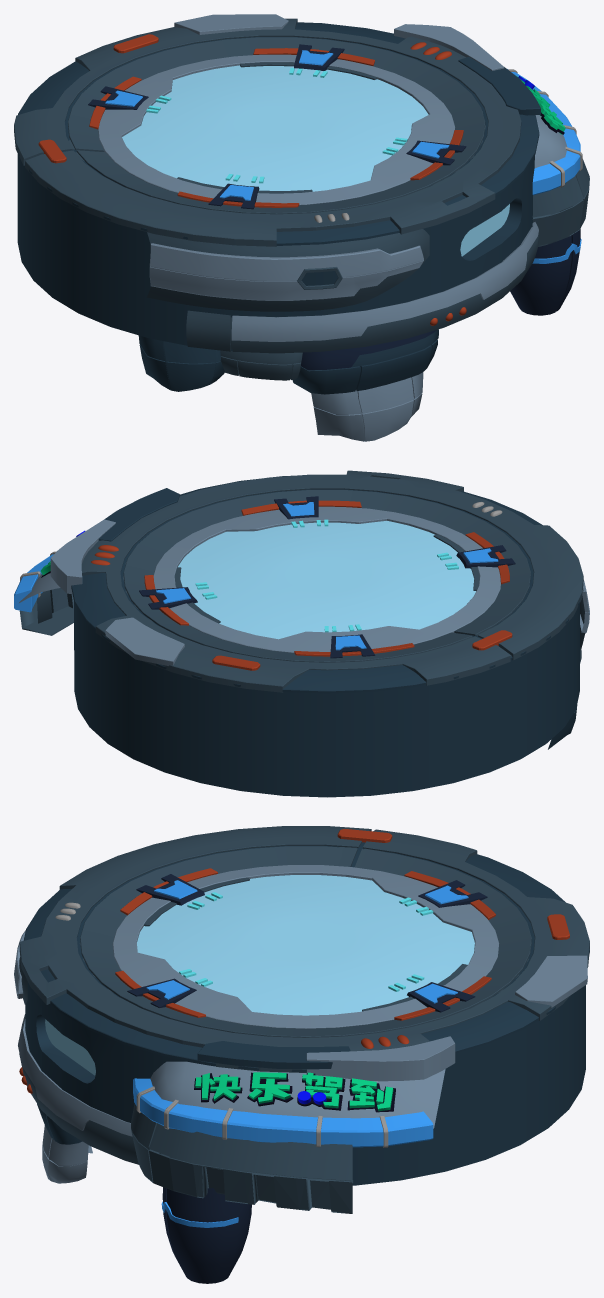
File: ui_main_3D.FBX
3 views of the same model, one above another, from view 1: azimuth 30°, elevation 25°; view 2: azimuth 150°, elevation 25°; view 3: azimuth 270°, elevation 25° (orthographic). The views are drawn at different scales.
Parts seen in each view (by area): view 1: Cylinder099, Object083, Cylinder095, Cylinder094, Plane040, Object071, Object066, Cylinder088, Cylinder091, Box322, Cylinder090, Cylinder089 (+11 smaller); view 2: Object083, Cylinder099, Cylinder095, Cylinder094, Box322, Box299, Box293, Line027, Box294, Line030, Box303, Box301 (+2 smaller); view 3: Cylinder099, Object083, Cylinder095, Line027, Cylinder094, Line030, Line026, Cylinder089, Box322, Object, Box293, Box294 (+9 smaller).
Part boxes in pixels (bbox=[...]): Cylinder099: bbox=[14, 18, 521, 246]; Object083: bbox=[14, 22, 539, 350]; Cylinder095: bbox=[122, 65, 428, 191]; Cylinder094: bbox=[98, 54, 455, 205]; Plane040: bbox=[149, 243, 423, 300]; Object071: bbox=[231, 222, 538, 341]; Object066: bbox=[147, 229, 429, 311]; Cylinder088: bbox=[186, 225, 538, 353]; Cylinder091: bbox=[311, 372, 423, 441]; Box322: bbox=[88, 44, 466, 209]; Cylinder090: bbox=[292, 329, 438, 394]; Cylinder089: bbox=[510, 229, 580, 315]; Object083: bbox=[71, 475, 583, 797]; Cylinder099: bbox=[81, 470, 583, 692]; Cylinder095: bbox=[178, 521, 475, 639]; Cylinder094: bbox=[153, 506, 500, 652]; Box322: bbox=[139, 496, 515, 658]; Box299: bbox=[105, 617, 184, 665]; Box293: bbox=[50, 519, 115, 594]; Line027: bbox=[19, 588, 73, 635]; Box294: bbox=[98, 488, 179, 541]; Line030: bbox=[14, 554, 53, 612]; Box303: bbox=[294, 643, 414, 656]; Box301: bbox=[212, 655, 260, 670]; Cylinder099: bbox=[19, 826, 589, 1072]; Object083: bbox=[23, 842, 589, 1185]; Cylinder095: bbox=[137, 875, 474, 1015]; Line027: bbox=[131, 1103, 353, 1213]; Cylinder094: bbox=[112, 865, 499, 1028]; Line030: bbox=[133, 1078, 433, 1147]; Line026: bbox=[150, 1061, 445, 1128]; Cylinder089: bbox=[162, 1187, 251, 1283]; Box322: bbox=[115, 874, 491, 1020]; Object: bbox=[194, 1072, 395, 1112]; Box293: bbox=[306, 1036, 455, 1081]; Box294: bbox=[197, 1041, 350, 1069].
Size of the model in its own units: 290 by 121 by 256.
